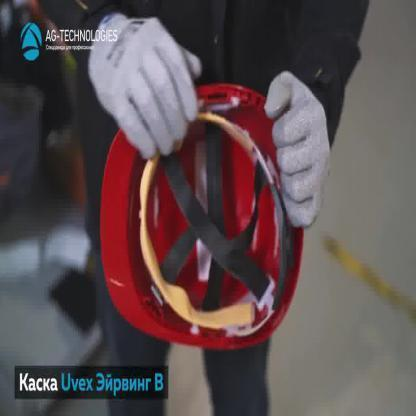gloves: (92, 10, 203, 160), (263, 66, 332, 233)
helmet: (98, 80, 304, 352)
